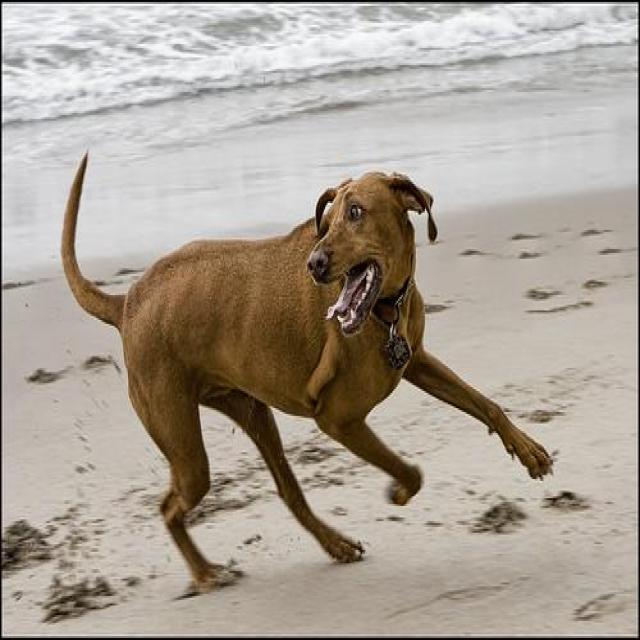happy: (56, 104, 579, 574)
